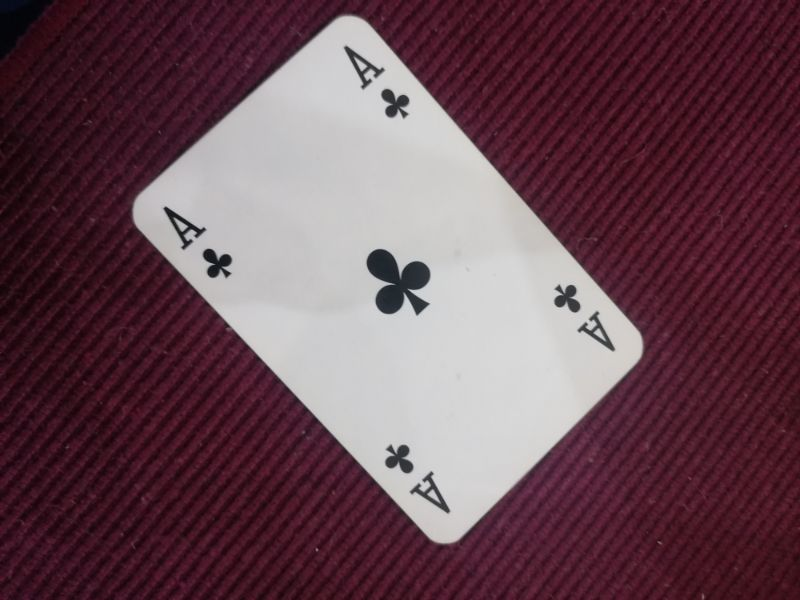Ac: (158, 203, 237, 282), (340, 40, 414, 124), (382, 439, 453, 518), (548, 279, 619, 356)
